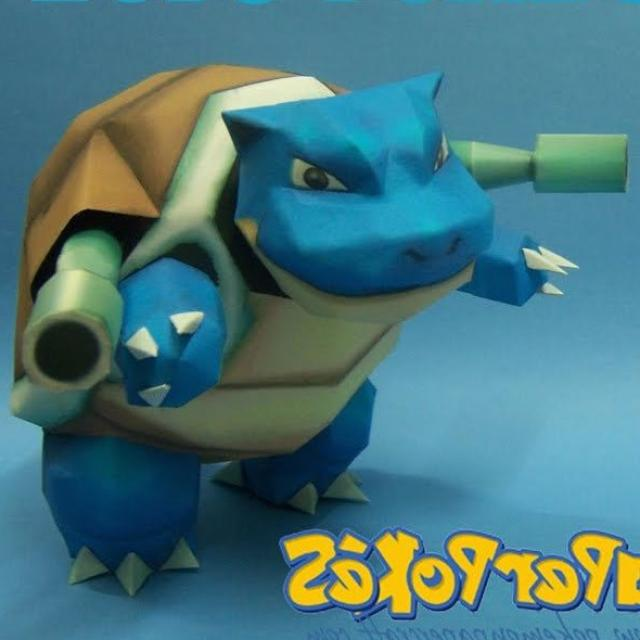Blastoise: (31, 58, 578, 585)
